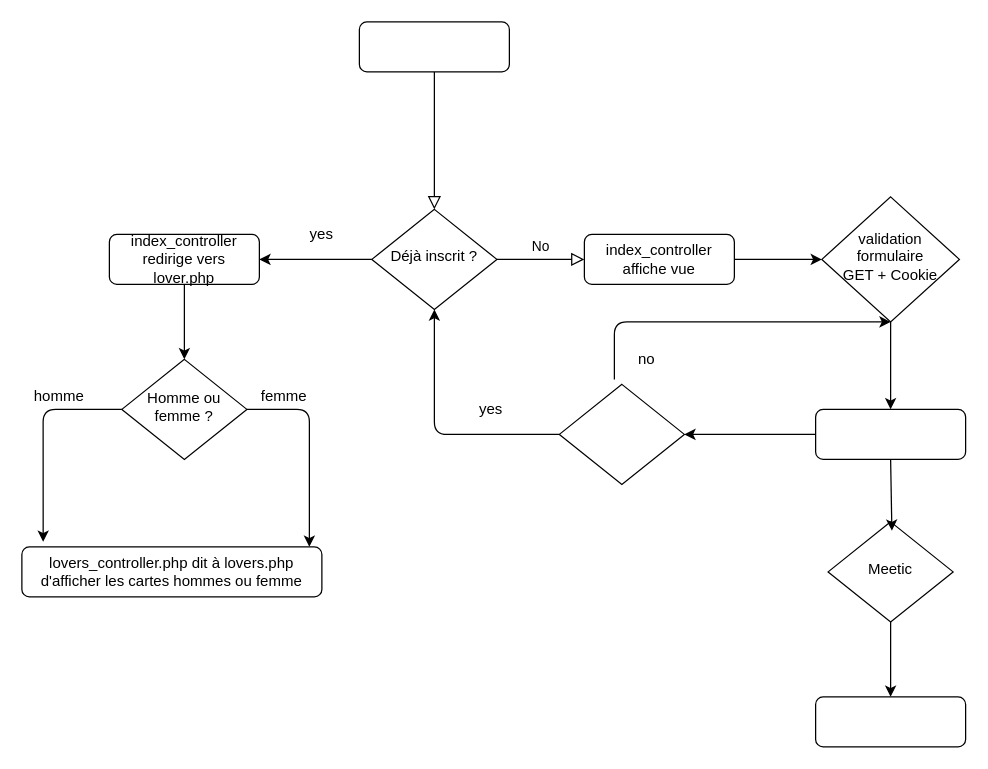
The diagram is 988 pixels wide and 769 high, and some of its shapes have lost their labels. The centre of each missing label's shape, as x and y in pixels:
"Effacer toutes traces ?" goes at (621,433).
"index.php" goes at (433,46).
"user.php" goes at (890,433).
"user_controller.php redirige vers meetic" goes at (890,721).
